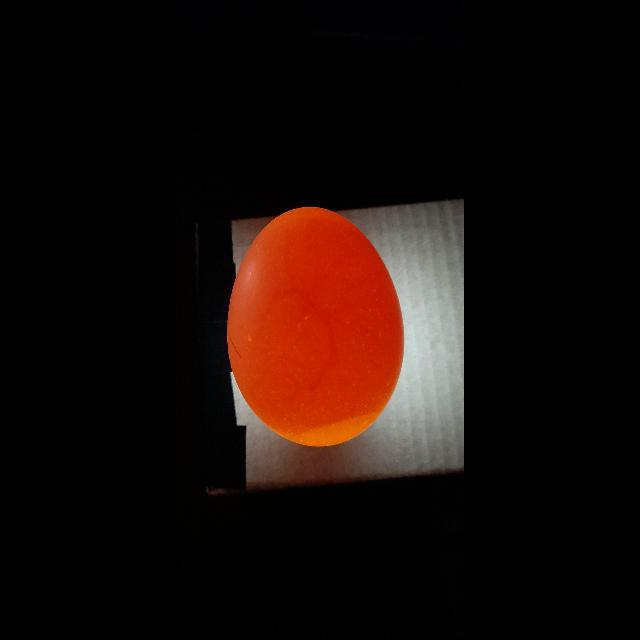Fertile: (232, 203, 408, 451)
